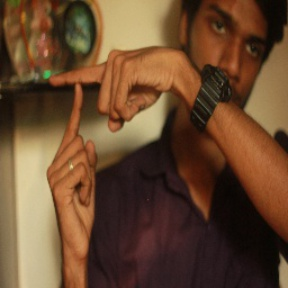T: (42, 54, 116, 158)
